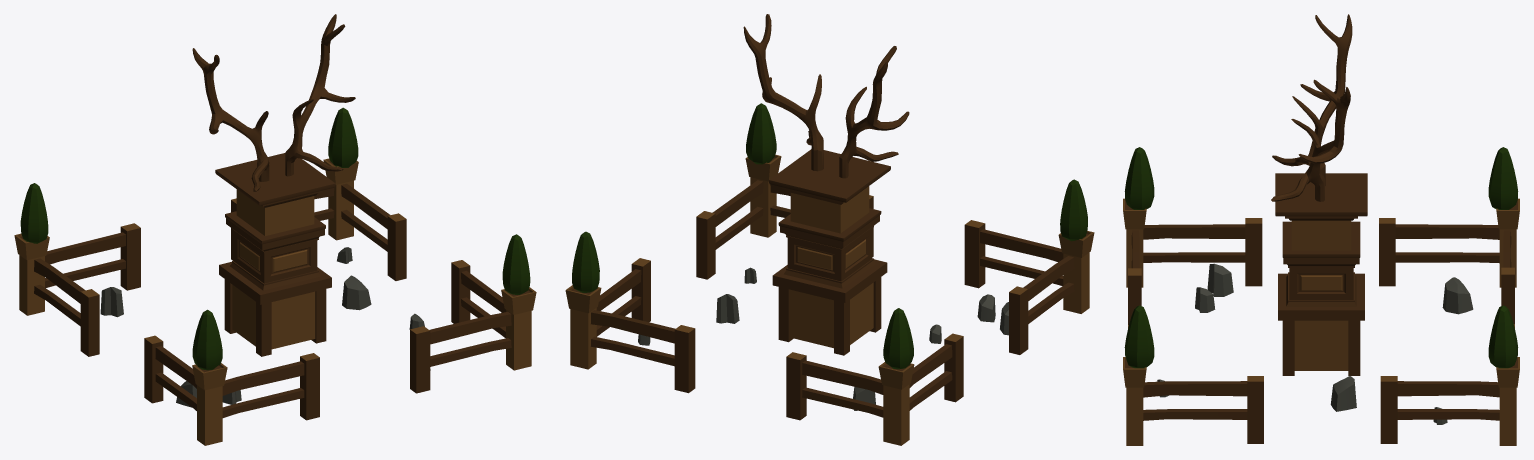
The model's file is TownCenter_FirstAge_Level2.obj.
3 renders of one model, left to right at view 1: azimuth 30°, elevation 25°; view 2: azimuth 150°, elevation 25°; view 3: azimuth 270°, elevation 25°, orthographic. The views are drawn at different scales.
Visible parts, largest first — view 1: TownCenter_FirstAge_Level2_Cube.115; view 2: TownCenter_FirstAge_Level2_Cube.115; view 3: TownCenter_FirstAge_Level2_Cube.115.
Part boxes in pixels (<box>): TownCenter_FirstAge_Level2_Cube.115: <box>14,14,536,445</box>; TownCenter_FirstAge_Level2_Cube.115: <box>565,14,1094,445</box>; TownCenter_FirstAge_Level2_Cube.115: <box>1123,14,1519,445</box>.
Size of the model in its own units: 1.26 by 1.09 by 1.24.
